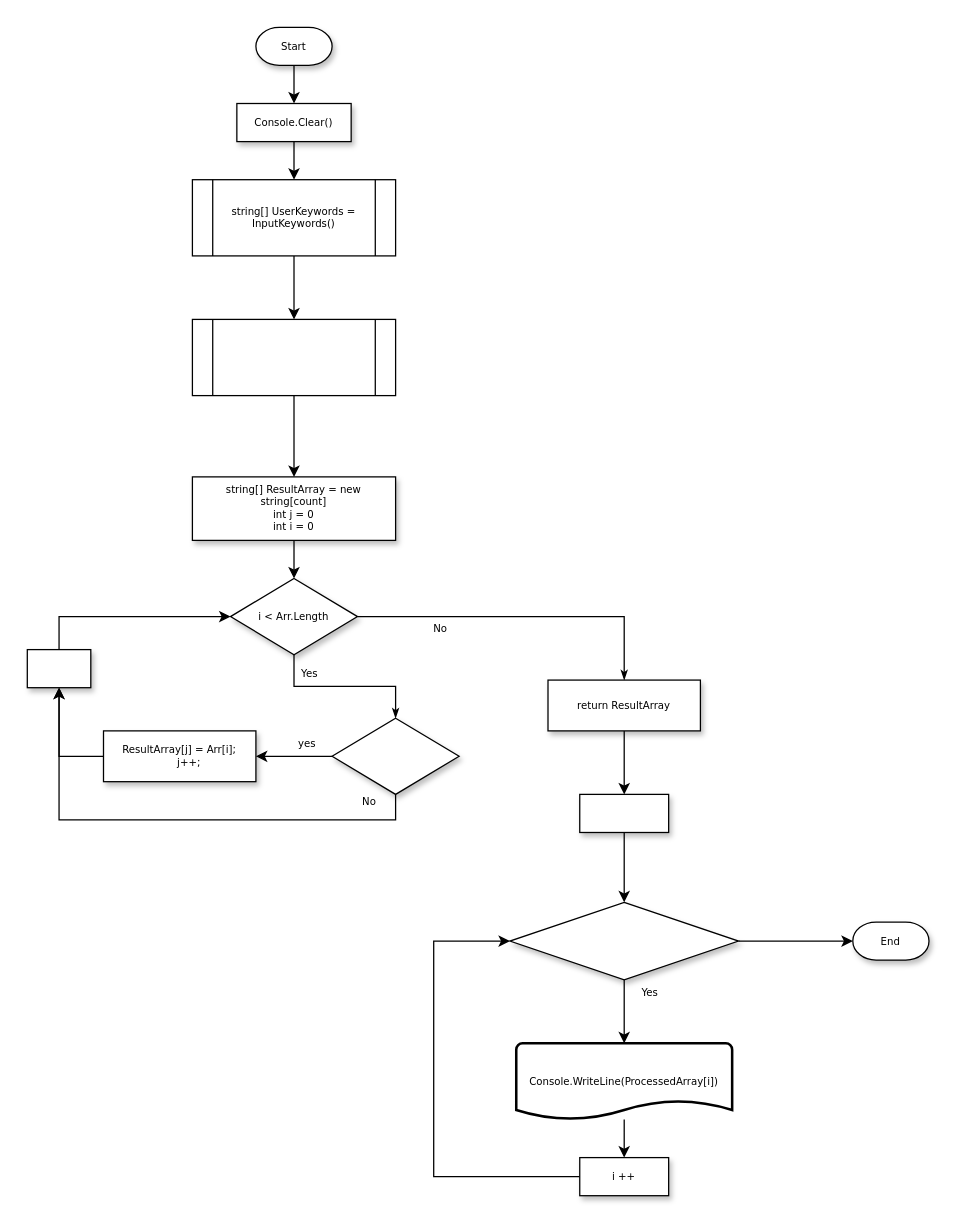
Some shapes in this 959 by 1227 pixel diagram are drawn without their labels. Here are the shapes that lost their labels. From the top down, the centre of each, then its label:
At point 293,357: "int count = More3Symbol(UserKeywords)".
At point 59,670: "i++".
At point 396,757: "Arr[i].Length <= 3".
At point 624,814: "i = 0".
At point 625,942: "i < ProcessedArray.Length".
